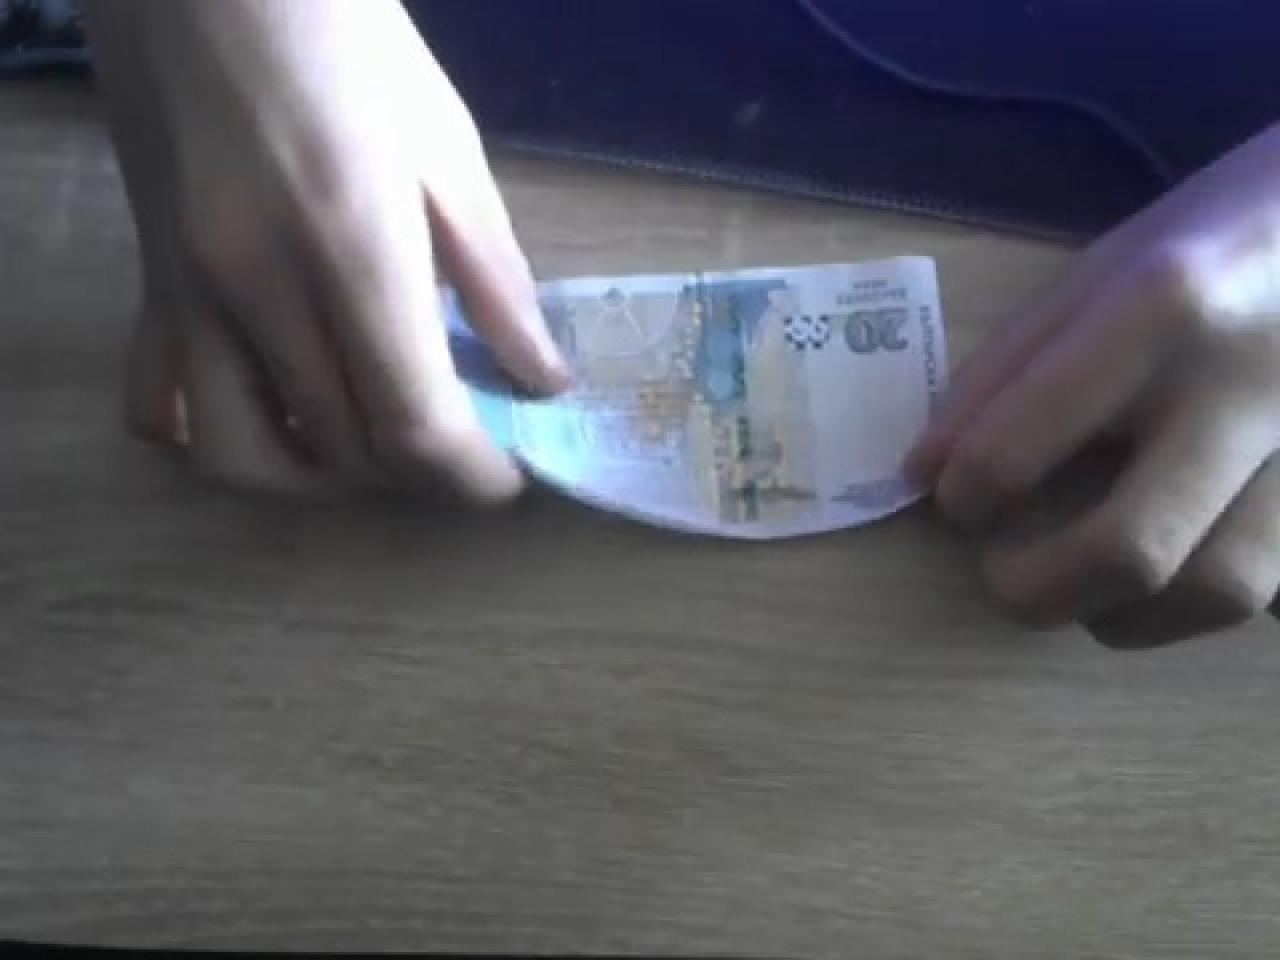20leva: (451, 256, 952, 544)
